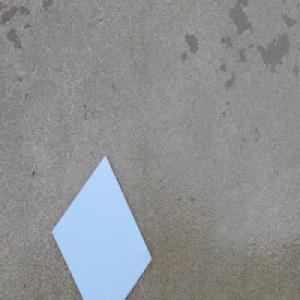PaintChip: (50, 155, 152, 300)
